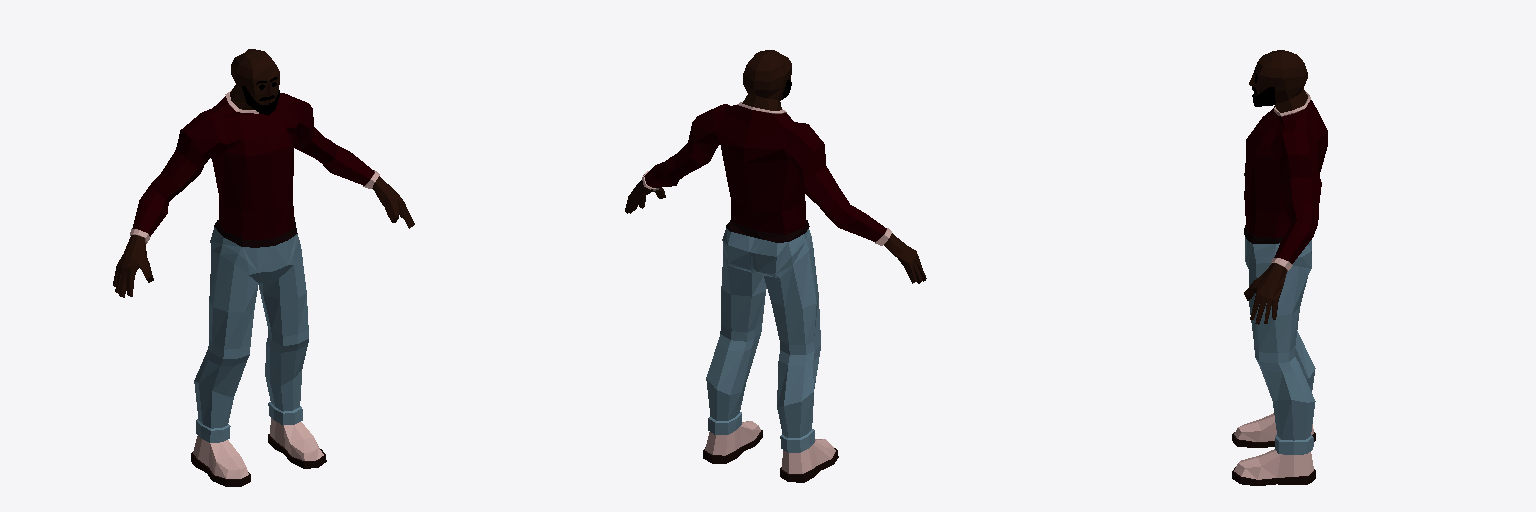
File: negro.obj
3 renders of one model, left to right at view 1: azimuth 30°, elevation 25°; view 2: azimuth 150°, elevation 25°; view 3: azimuth 270°, elevation 25°, orthographic.
Visible parts, largest first — view 1: lowPolyCharacterFace4_Mesh; view 2: lowPolyCharacterFace4_Mesh; view 3: lowPolyCharacterFace4_Mesh.
Boxes of the visible parts, x1=… form: lowPolyCharacterFace4_Mesh: x1=113, y1=49, x2=414, y2=486; lowPolyCharacterFace4_Mesh: x1=625, y1=50, x2=926, y2=482; lowPolyCharacterFace4_Mesh: x1=1232, y1=50, x2=1327, y2=485.
Bounding box in the file's own units: 1.39 × 1.84 × 0.3922.